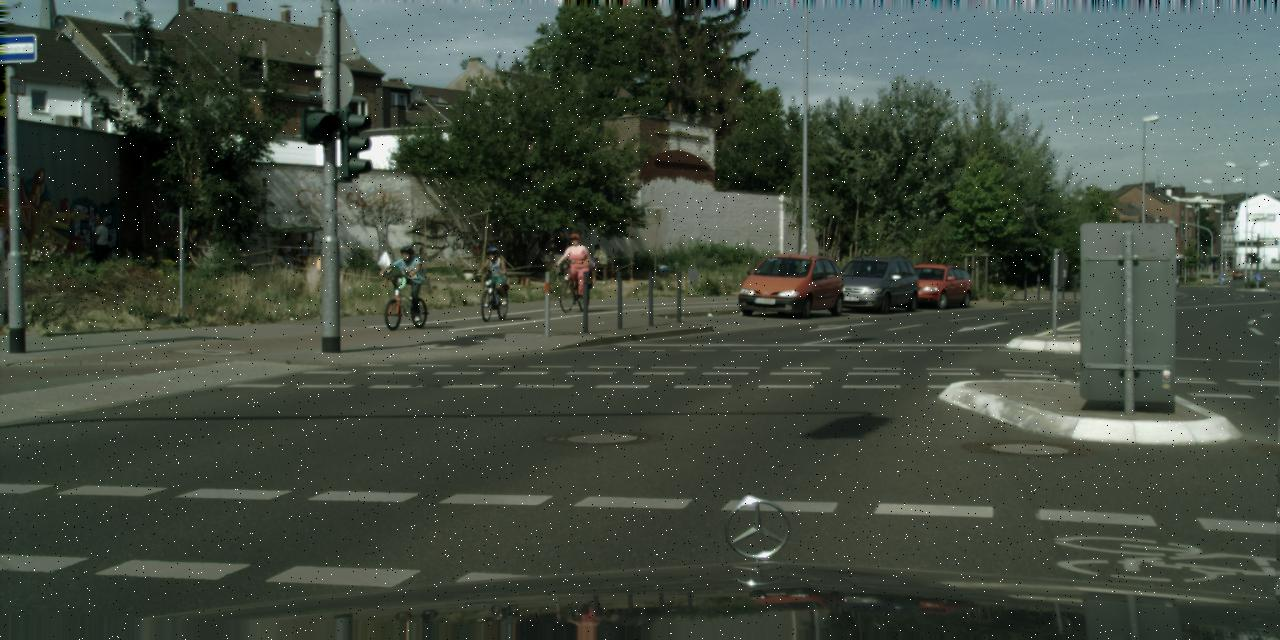ped: (394, 245, 422, 311), (86, 215, 112, 278), (562, 232, 587, 294), (541, 230, 569, 280), (482, 246, 506, 304), (278, 250, 313, 268), (279, 231, 311, 246), (283, 267, 308, 271), (563, 258, 569, 264)
